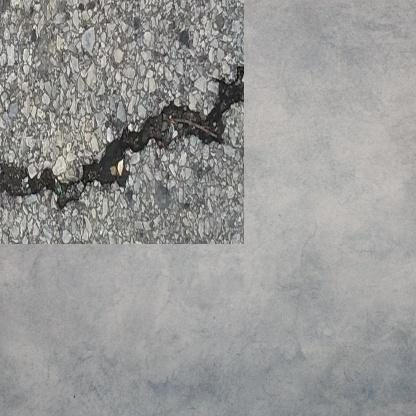Cracks: (0, 58, 225, 194)
